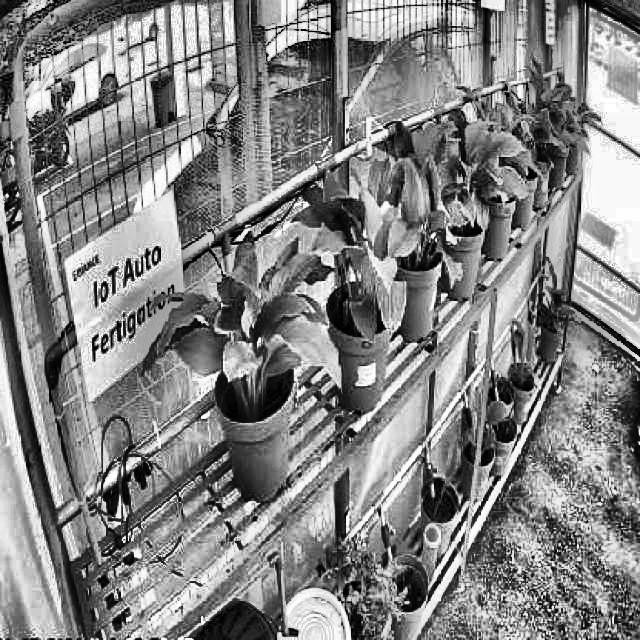plants: (141, 229, 341, 403), (303, 173, 406, 344), (363, 127, 462, 293), (410, 98, 528, 232)
